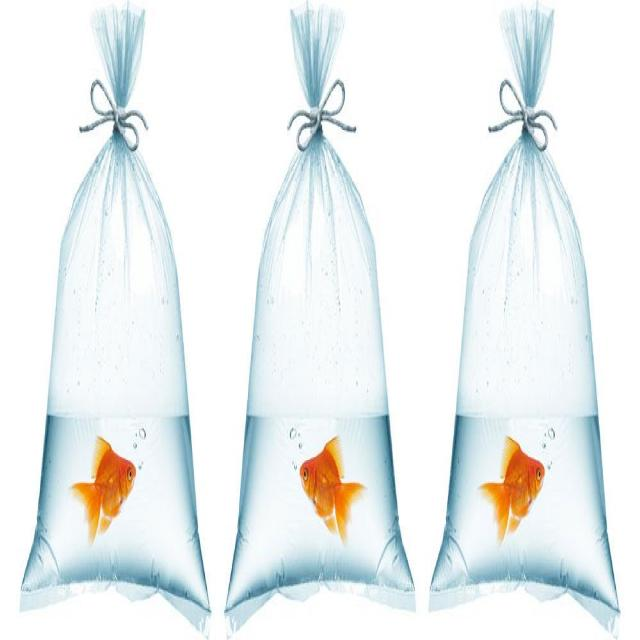others: (67, 441, 141, 545), (297, 447, 365, 549), (483, 434, 547, 539)
plastic_bag: (35, 19, 208, 617), (240, 17, 415, 599), (447, 22, 616, 606)
